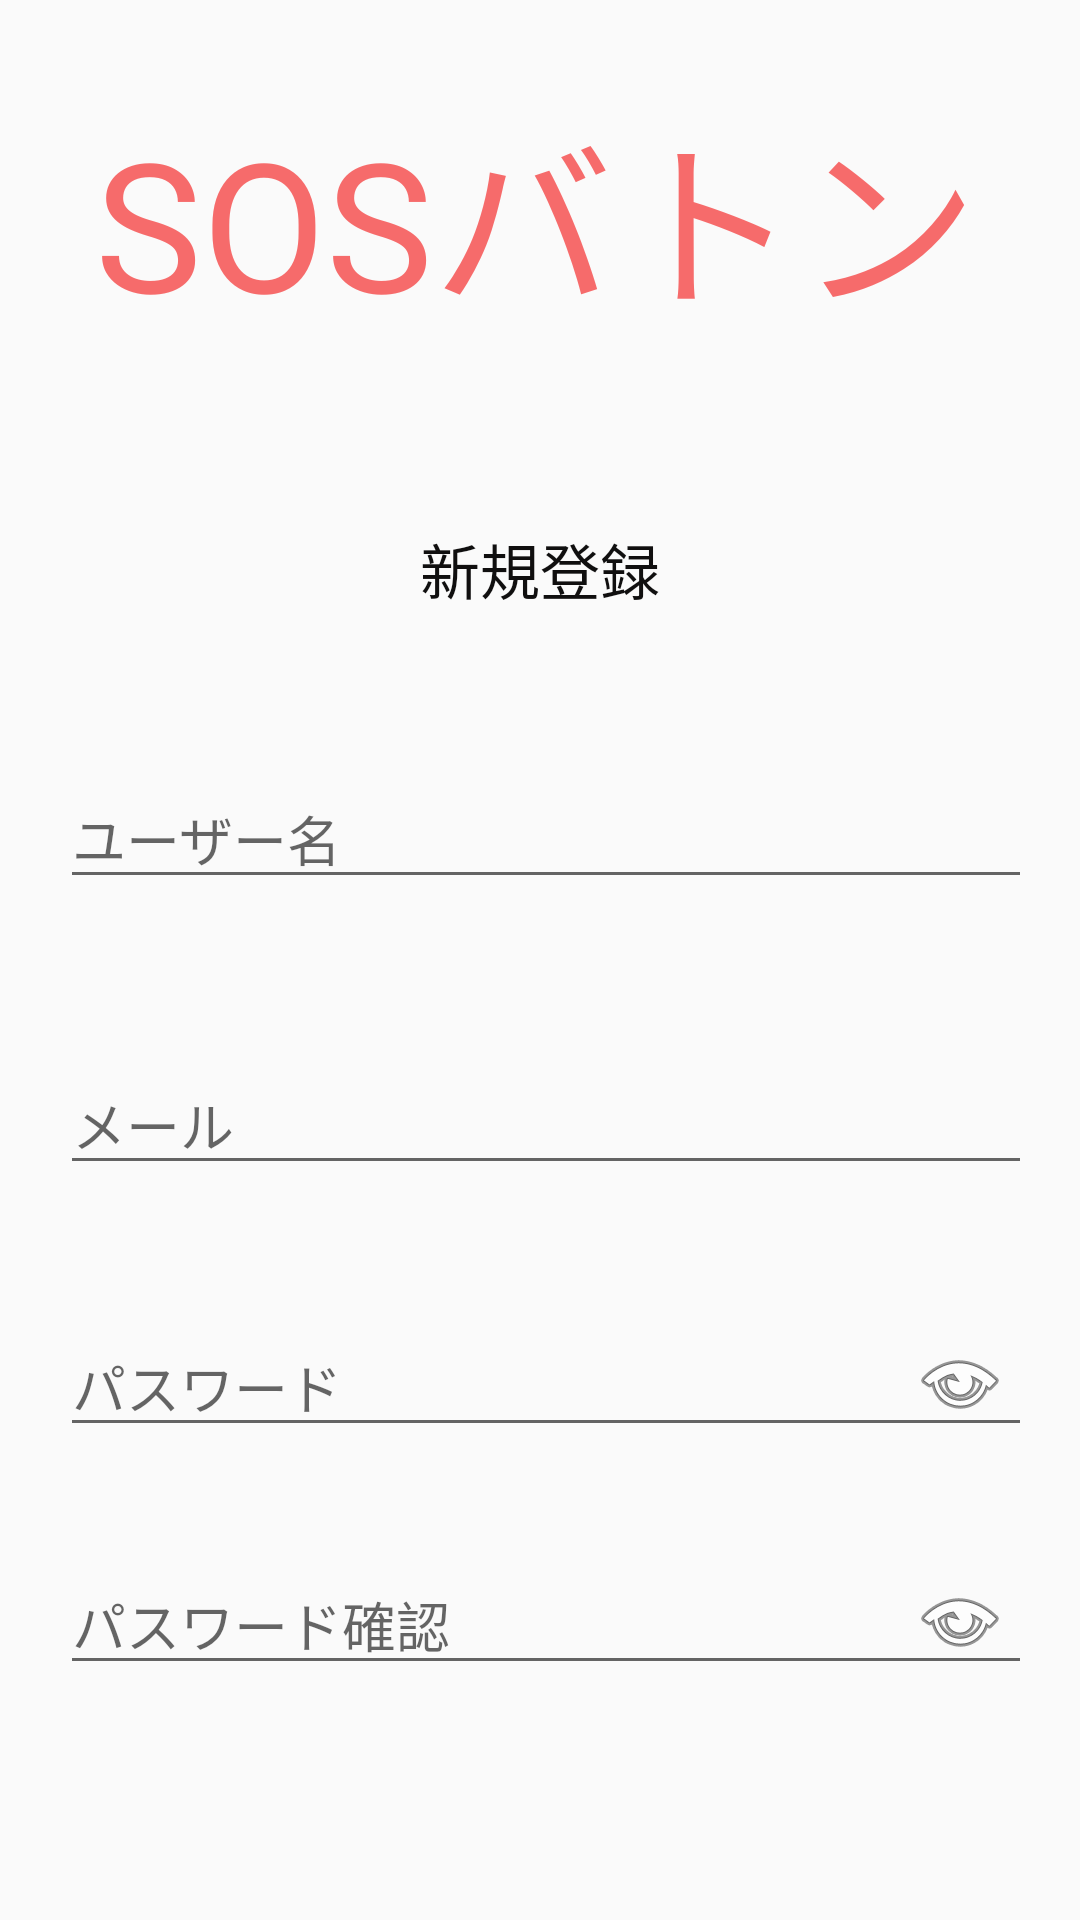

Screen size 1080px×1920px. Icon name, then its box in pixels as [x1,y1,x2,y2]:
view: [921,1360,999,1409], [921,1598,999,1647]
